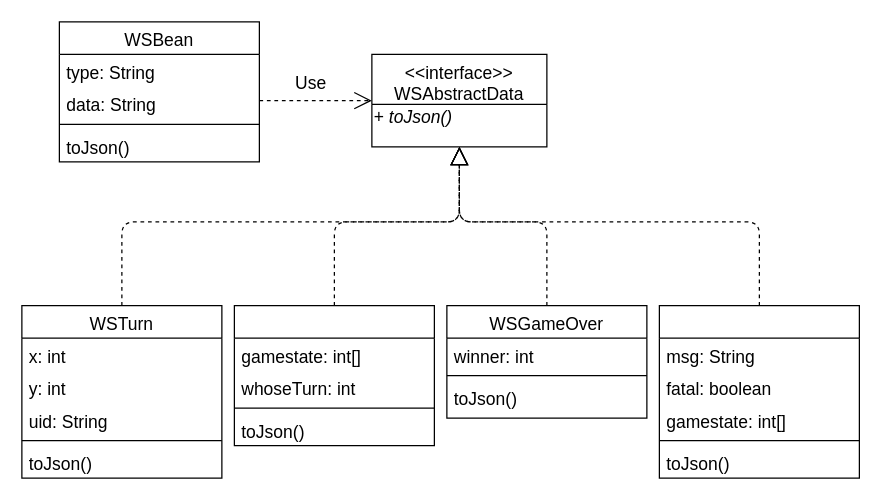
This 881x504 diagram has some shape labels left out. The box of each missing label's shape, as (x1, y1, x2, y2) in pixels:
WSError: (658, 304, 859, 478)
WSGameState: (233, 304, 434, 446)
